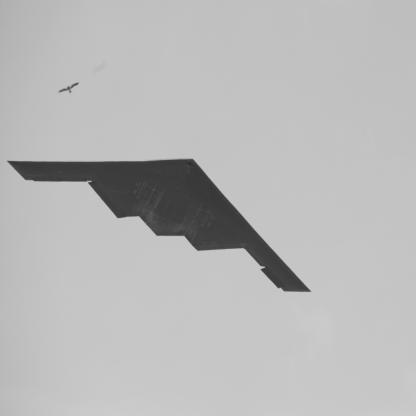B2: (8, 158, 313, 293)
